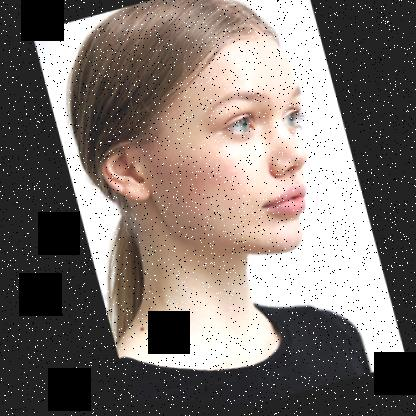Female: (72, 22, 340, 296)
